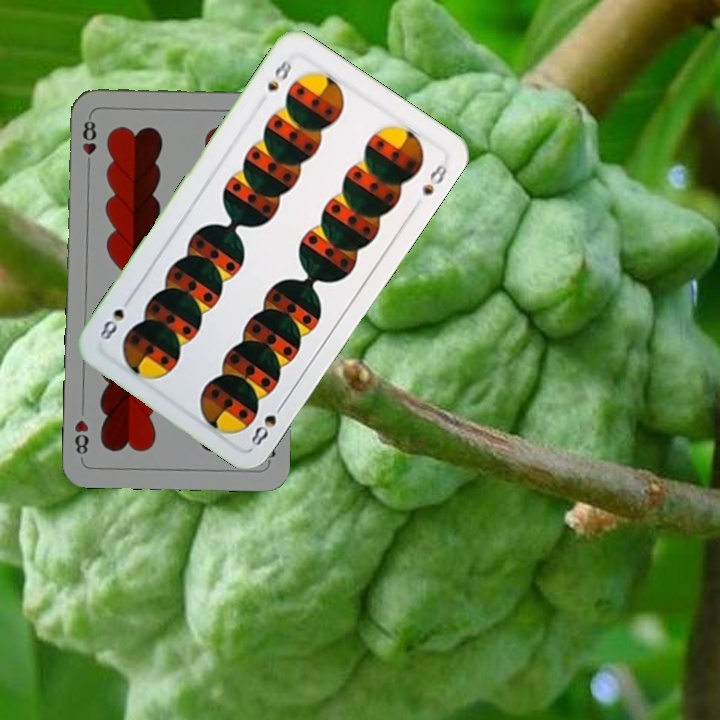H8: (79, 112, 99, 172)
S8: (247, 397, 288, 451), (263, 55, 295, 94)
